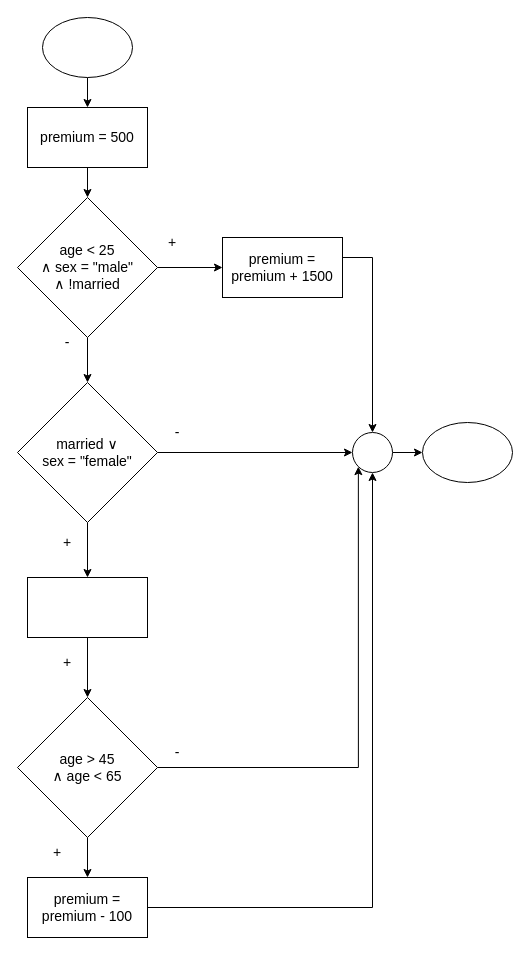
Image size: 530x955. Some labels were removed from this diagram. The shapes that lost their labels are listed below. From the top down, each one's centre as x and y in pixels, then its label:
At [87,47]: "Inicio".
At [467,452]: "Fin".
At [87,607]: "premium = premium - 200".
